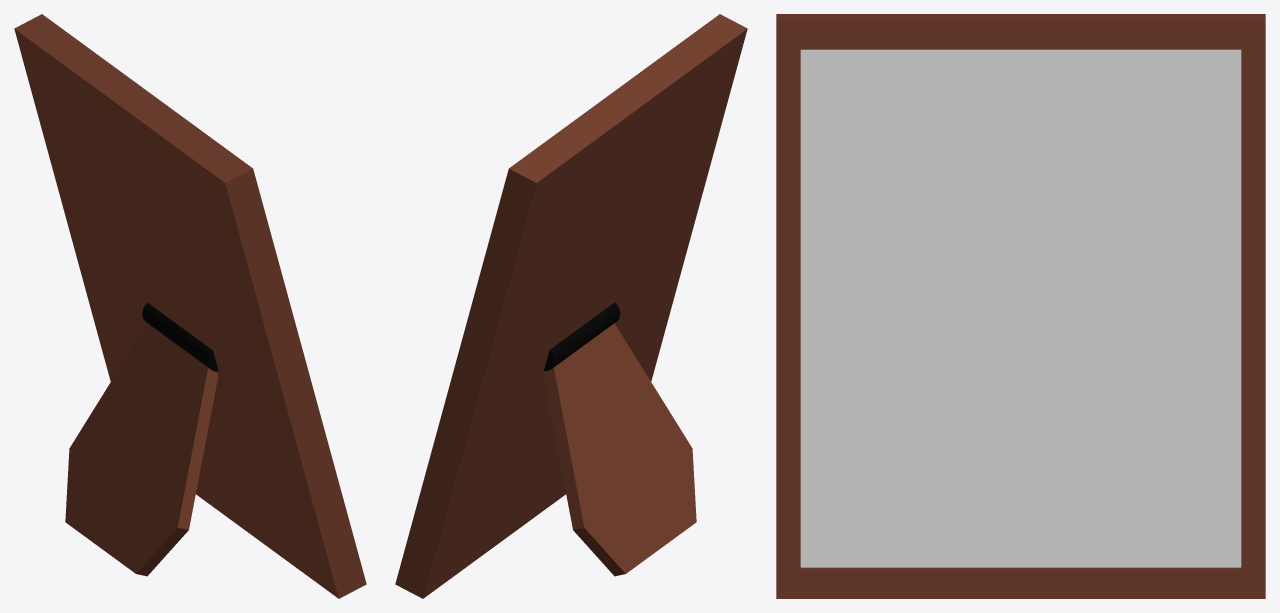
The model's file is PH_PictureFrame.fbx.
3 views of the same model, side by side, from view 1: azimuth 30°, elevation 25°; view 2: azimuth 150°, elevation 25°; view 3: azimuth 270°, elevation 25° (orthographic). The views are drawn at different scales.
Parts seen in each view (by area): view 1: S_CadrePhoto; view 2: S_CadrePhoto; view 3: S_CadrePhoto.
Part boxes in pixels (x1=…): S_CadrePhoto: x1=14, y1=14, x2=366, y2=598; S_CadrePhoto: x1=395, y1=14, x2=747, y2=598; S_CadrePhoto: x1=776, y1=14, x2=1265, y2=598.
Size of the model in its own units: 8.78 by 23.59 by 20.
